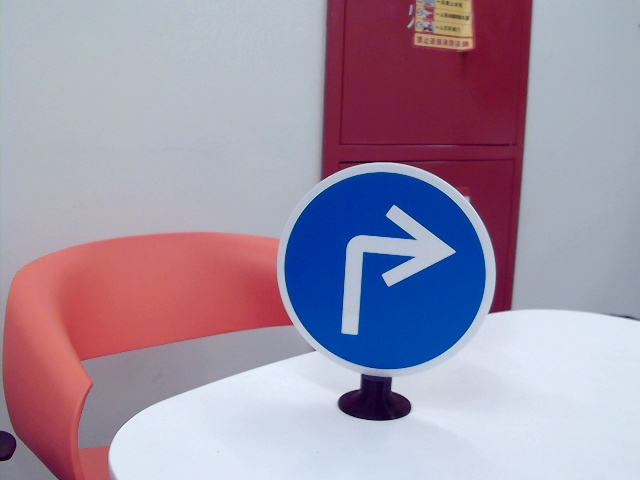turn_right: (341, 206, 447, 348)
